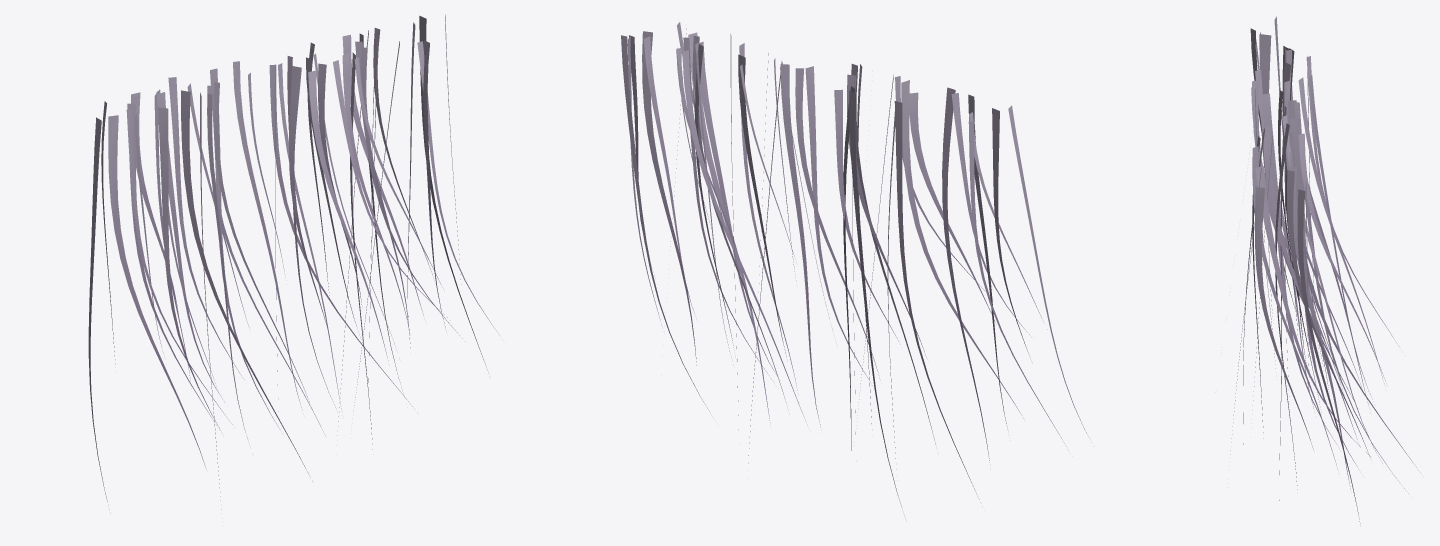
Rendered from mesh-plant-040-willow-veil_LOD0.glb.
3 views of the same model, side by side, from view 1: azimuth 30°, elevation 25°; view 2: azimuth 150°, elevation 25°; view 3: azimuth 270°, elevation 25° (orthographic). The views are drawn at different scales.
Parts seen in each view (by area): view 1: geometry_0; view 2: geometry_0; view 3: geometry_0.
Boxes of the visible parts, box(x1,y1,x2,y2) form: geometry_0: box(88, 14, 498, 509); geometry_0: box(621, 22, 1089, 506); geometry_0: box(1230, 16, 1420, 523).
Size of the model in its own units: 3.05 by 2.35 by 1.66.
